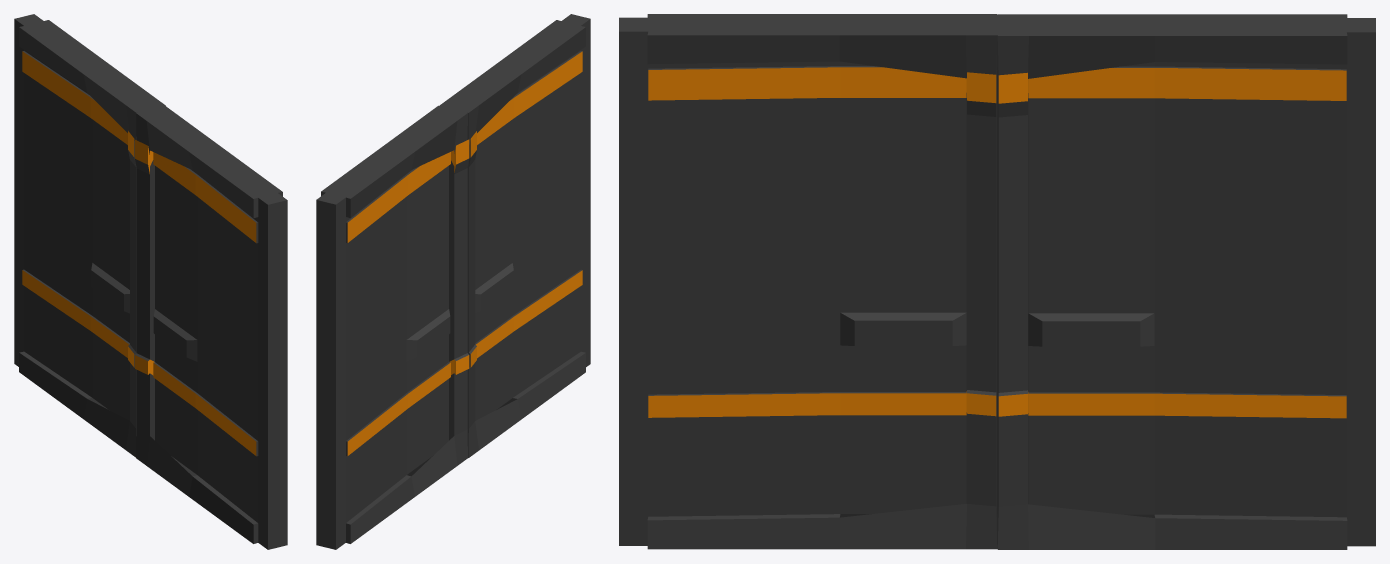
Rendered from Door.fbx.
3 renders of one model, left to right at view 1: azimuth 30°, elevation 25°; view 2: azimuth 150°, elevation 25°; view 3: azimuth 270°, elevation 25°, orthographic. The views are drawn at different scales.
Parts seen in each view (by area): view 1: Cube, Cube.001; view 2: Cube.001, Cube; view 3: Cube.001, Cube.
Part boxes in pixels (bbox=[...]): Cube: bbox=[135, 106, 287, 549]; Cube.001: bbox=[14, 14, 165, 457]; Cube.001: bbox=[316, 105, 469, 549]; Cube: bbox=[439, 14, 590, 457]; Cube.001: bbox=[997, 14, 1375, 549]; Cube: bbox=[619, 14, 997, 549].
Size of the model in its own units: 267 by 2634 by 3515.
